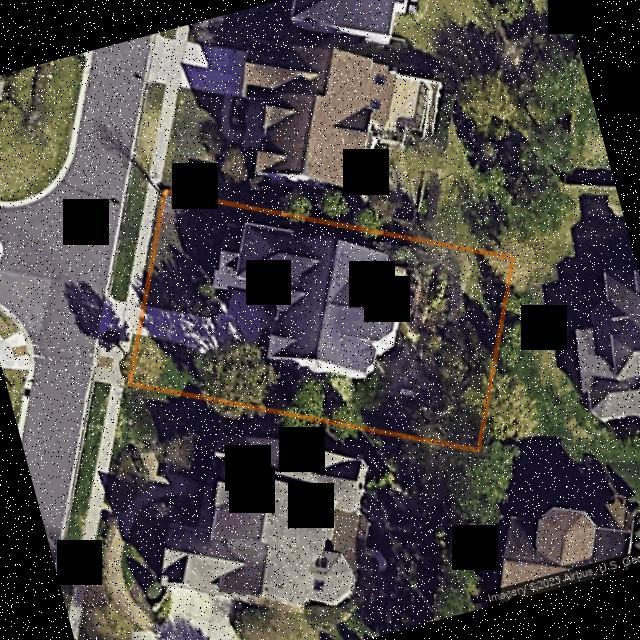Driveway: (143, 291, 272, 353)
Extra Driveway: (96, 296, 139, 337)
Extra Lawn: (110, 183, 147, 299)
House: (209, 218, 400, 383)
Sidewalk: (126, 186, 158, 303)
